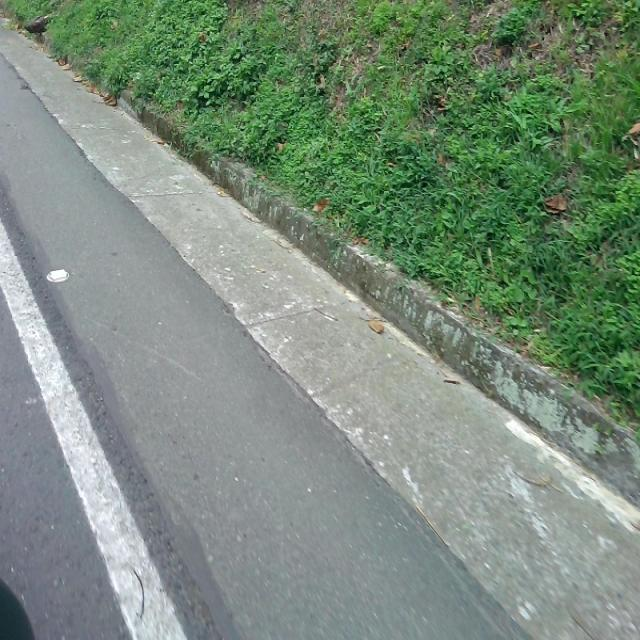DITCH: (3, 2, 637, 637), (1, 14, 638, 638)
